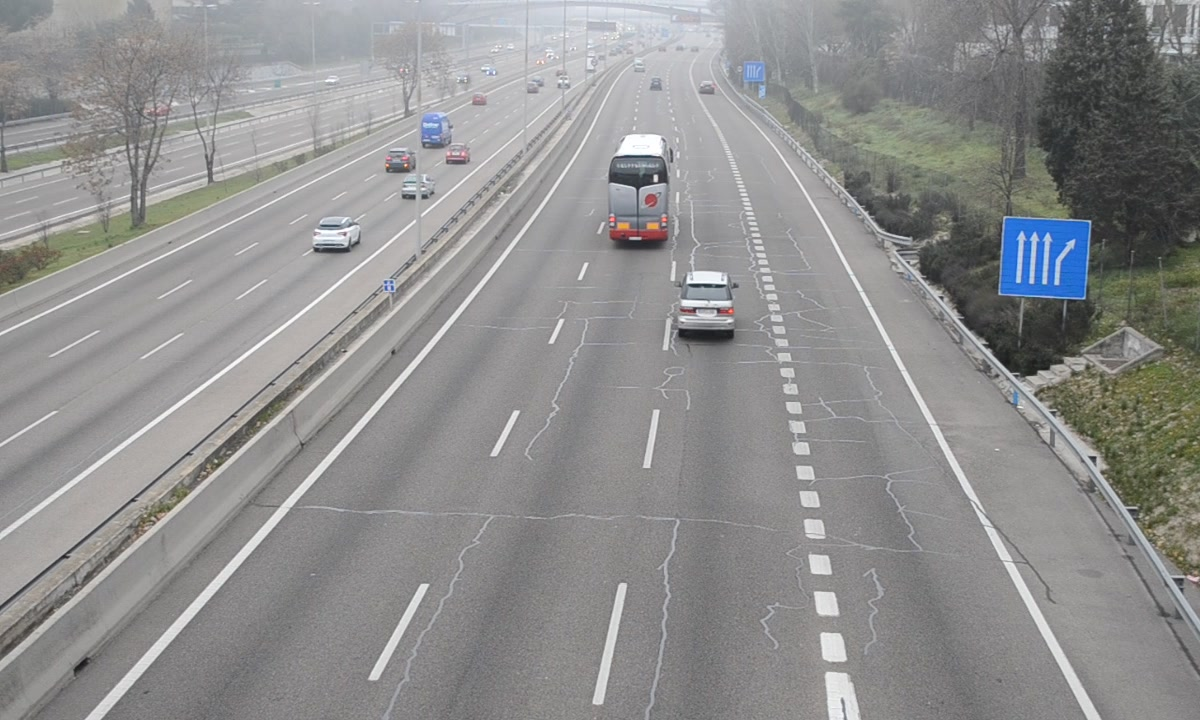bus: (609, 134, 673, 245)
car: (678, 269, 737, 336)
